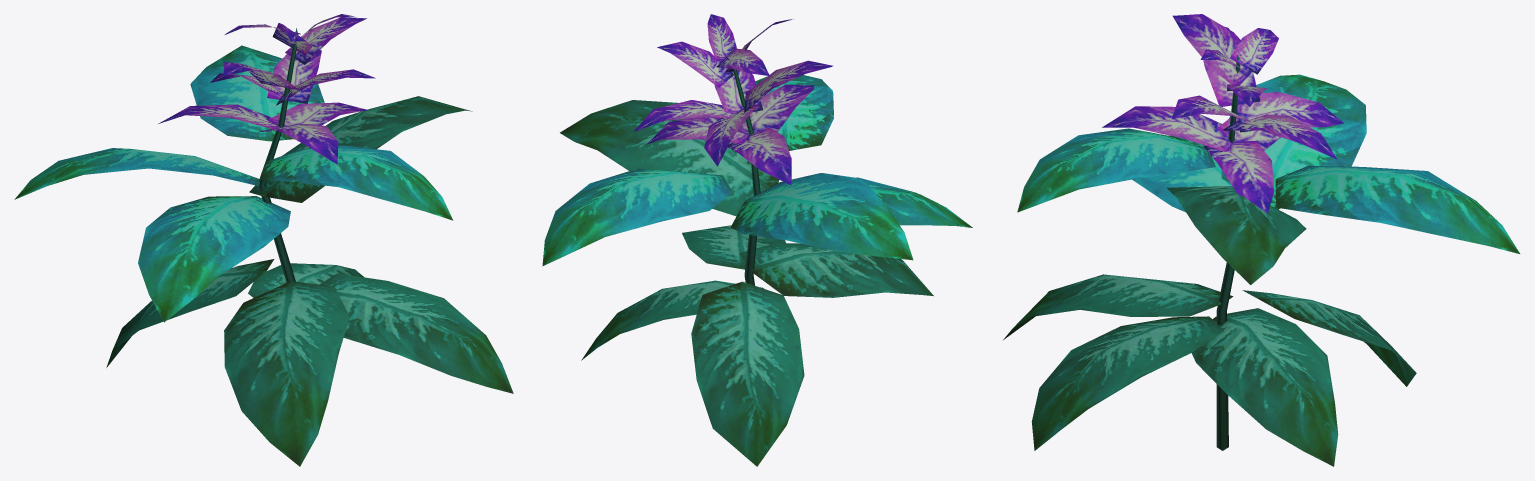
File: e_grass.fbx
The picture shows the model from 3 angles, left to right: view 1: azimuth 30°, elevation 25°; view 2: azimuth 150°, elevation 25°; view 3: azimuth 270°, elevation 25°; orthographic projection. The views are drawn at different scales.
Visible parts, largest first — view 1: E_Grass; view 2: E_Grass; view 3: E_Grass.
Boxes of the visible parts, x1,y1,x2,y2 form: E_Grass: (14,14,513,466); E_Grass: (542,14,972,466); E_Grass: (1003,14,1519,466).
Size of the model in its own units: 2.33 by 2.2 by 2.37.
